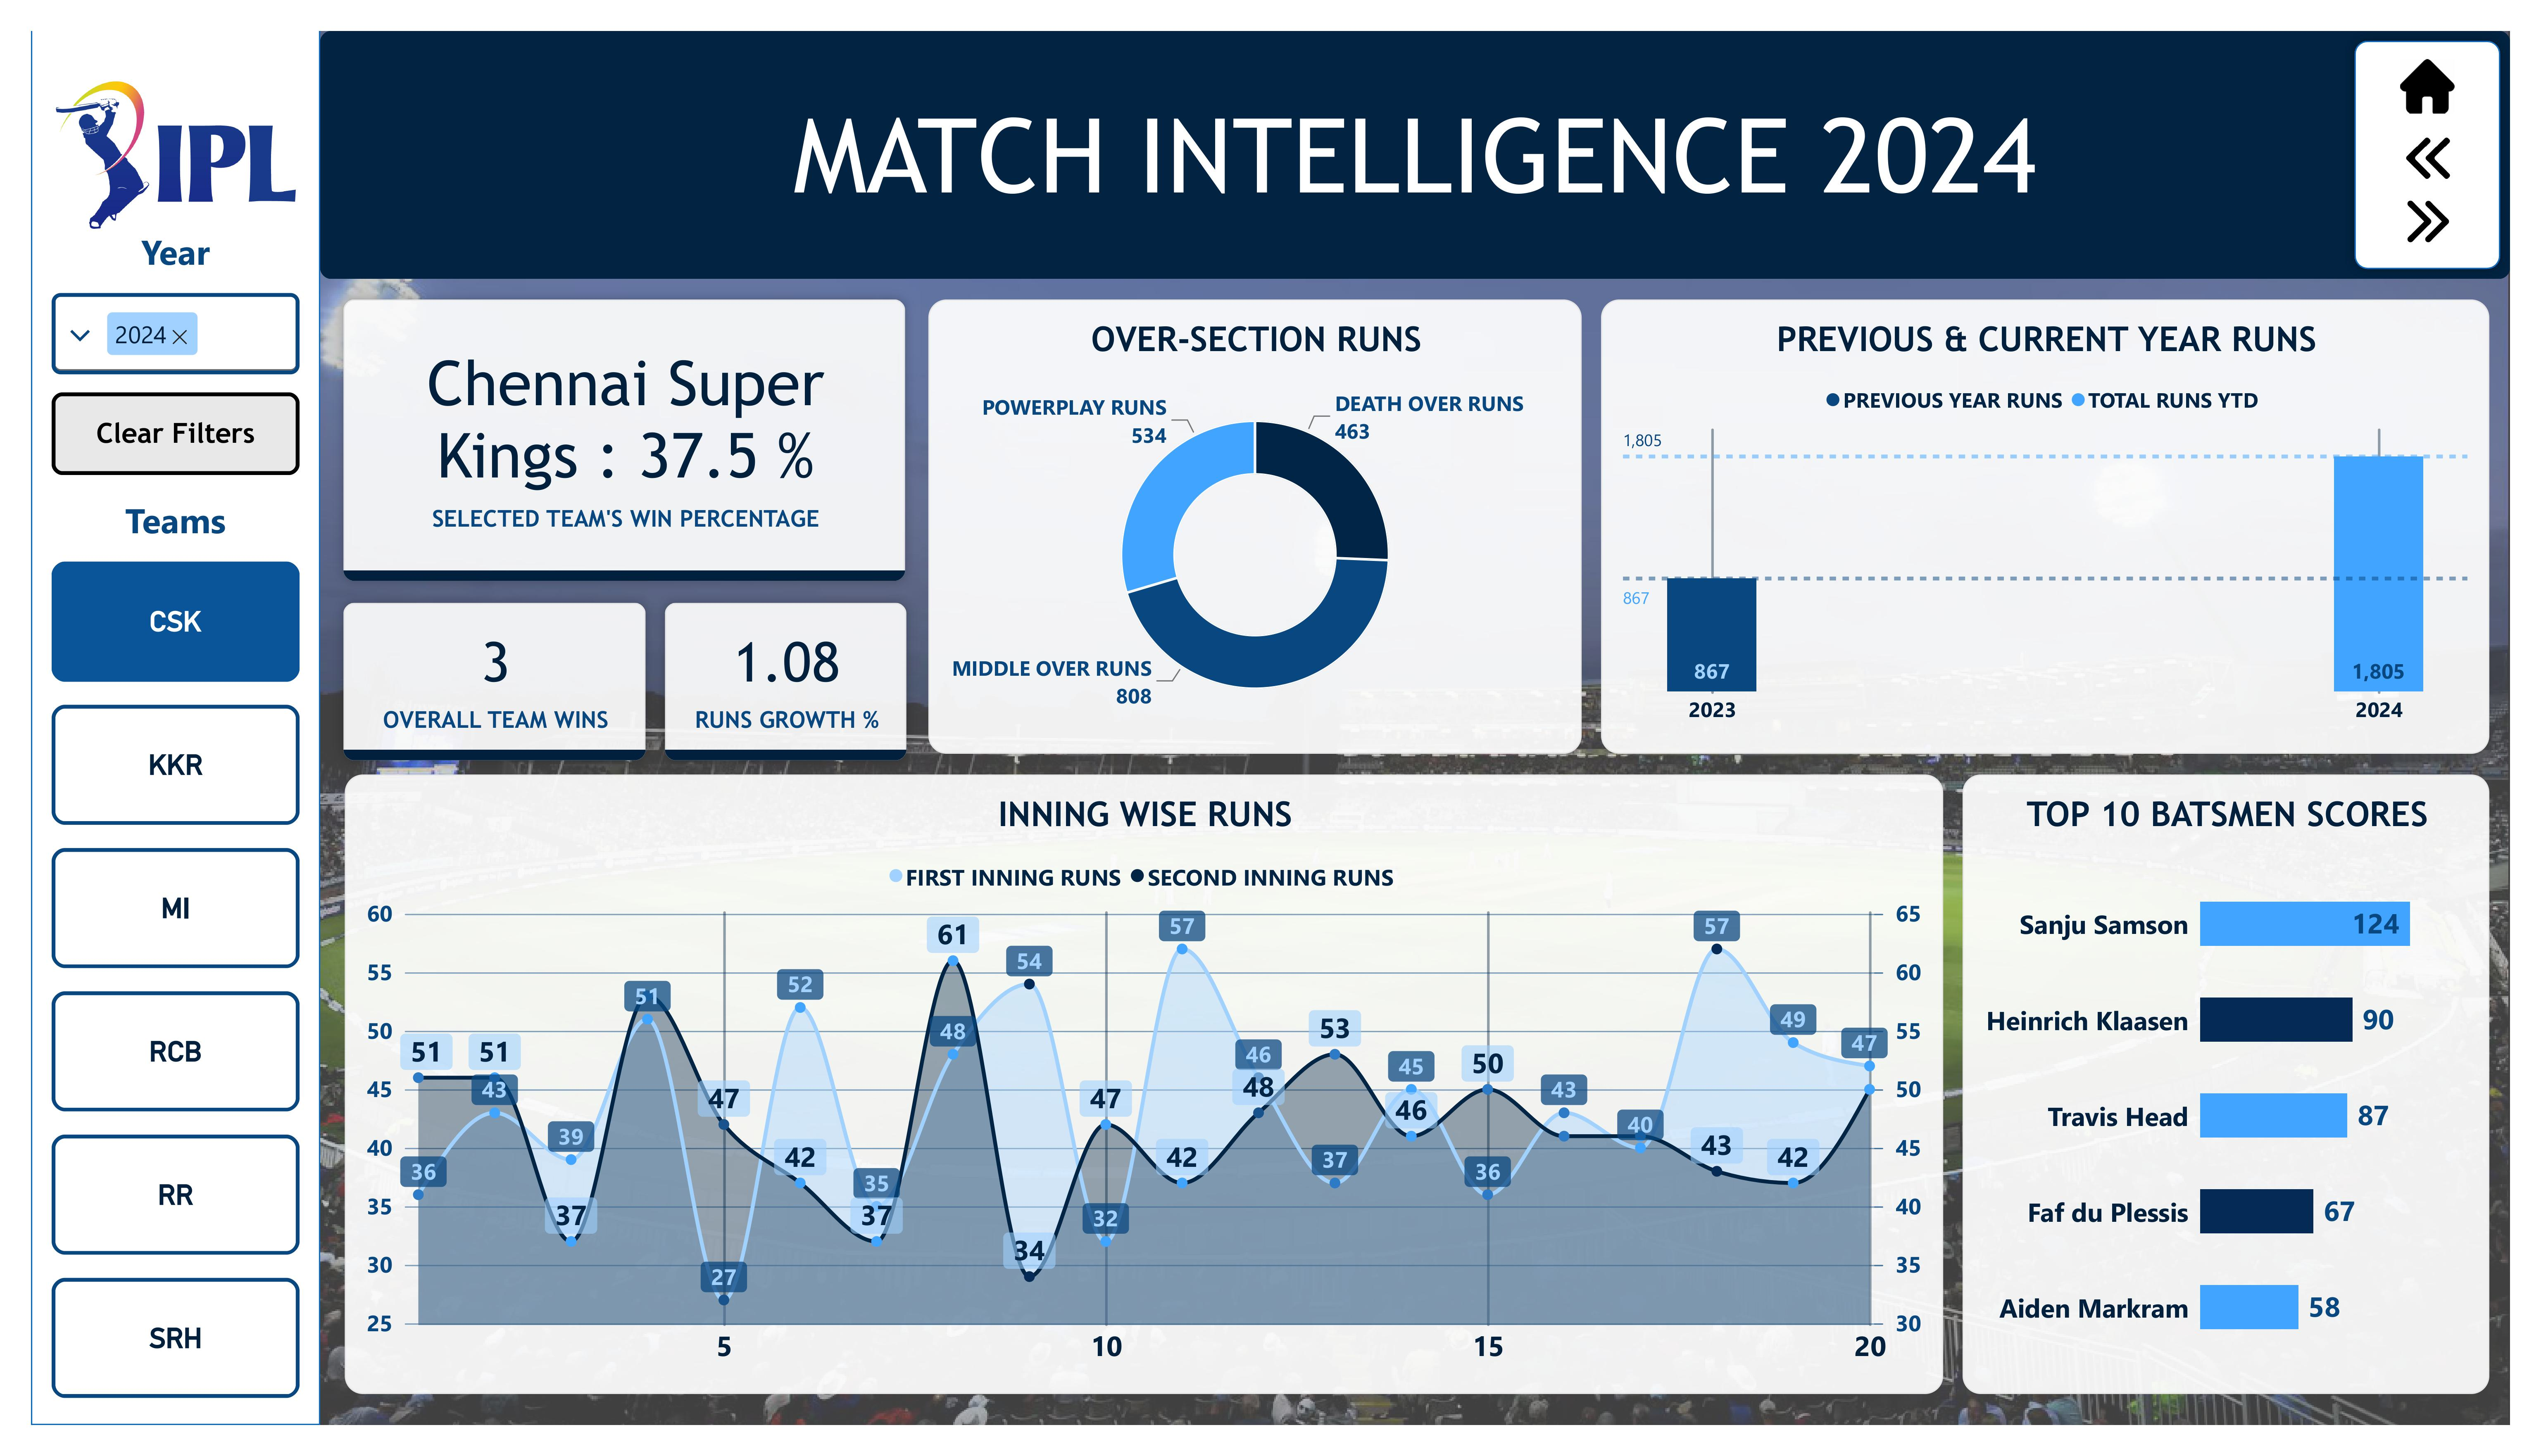

The page's visual inventory and layout, read from the dashboard file:
{"tool":"powerbi","page":{"name":"Advance Match Intelligence","canvas":[1920,1080],"ordinal":4},"visuals":[{"type":"group","id":"g1","title":"Group 4","box":[0,-8,224,1088],"z":0,"group":"g6"},{"type":"shape","box":[0,-8,224,1088],"z":0,"group":"g2"},{"type":"group","id":"g2","title":"Group 2","box":[0,-8,224,1088],"z":0,"group":"g1"},{"type":"cardVisual","fields":{"Data":["LEVEL 1.MATCH INTELLIGENCE TITLE"]},"box":[224,0,1696,192],"z":0,"group":"g3"},{"type":"shape","box":[1792,0,128,192.3],"z":0,"group":"g4"},{"type":"image","box":[1822.1,22.2,67.9,41.9],"z":0,"group":"g5"},{"type":"pieChart","title":"OVER-SECTION RUNS","fields":{"Y":["LEVEL 4.DEATH OVER RUNS","LEVEL 4.MIDDLE OVER RUNS","LEVEL 4.POWERPLAY RUNS"]},"box":[1296,216,600,360],"z":0},{"type":"cardVisual","fields":{"Data":["LEVEL 6 Time Intelligence.RUNS GROWTH %"]},"box":[856,394,432,192],"z":0,"group":"g7"},{"type":"group","id":"g3","title":"Group 6","box":[224,0,1696,192.3],"z":1000,"group":"g6"},{"type":"group","id":"g4","title":"Group 3","box":[1792,0,128,192.3],"z":1000,"group":"g3"},{"type":"group","id":"g5","title":"Group 1","box":[1802.7,22.2,106.7,153.5],"z":1000,"group":"g4"},{"type":"image","box":[1802.7,119.9,106.7,55.8],"z":1000,"group":"g5"},{"type":"cardVisual","fields":{"Data":["LEVEL 4.TEAM WINS"]},"box":[856,202,432,192],"z":1000,"group":"g7"},{"type":"advancedSlicerVisual","title":"Teams","fields":{"Values":["Teams.Team_ID"]},"box":[16,360,192,704],"z":1000,"group":"g1"},{"type":"areaChart","title":"INNING WISE RUNS","fields":{"Category":["Deliveries.Over"],"Y":["LEVEL 4.FIRST INNING RUNS","LEVEL 4.SECOND INNING RUNS"]},"box":[704,592,1200,464],"z":1000},{"type":"image","box":[16,0,192,192],"z":2000,"group":"g1"},{"type":"image","box":[1812.4,77.8,87.3,41.9],"z":2000,"group":"g5"},{"type":"cardVisual","fields":{"Data":["LEVEL 4.SELECT TEAM WIN %"]},"box":[231,204,624,382],"z":2000},{"type":"actionButton","box":[16,280,192,64],"z":3000,"group":"g1"},{"type":"ribbonChart","title":"PREVIOUS & CURRENT YEAR RUNS ","fields":{"Category":["Matches.Season"],"Y":["LEVEL 6 Time Intelligence.PREVIOUS YEAR RUNS","LEVEL 6 Time Intelligence.TOTAL RUNS YTD"]},"box":[240,592,448,464],"z":3000},{"type":"group","id":"g6","title":"Group 5","box":[0,-8,1920,1088],"z":4000},{"type":"group","id":"g7","title":"Group 7","box":[856,202,432,384],"z":5000},{"type":"listSlicer","fields":{"Values":["Date.Year"]},"box":[0,152.3,224,128],"z":7000}]}

Visuals, with their boxes on the page's 1920x1080 design canvas (x1, y1, x2, y2). These are canvas units, not pixel positions in the 2541x1456 screenshot, which may show the page scaled, cropped or inside an application window:
"Group 4" group: 0, -8, 224, 1080
shape: 0, -8, 224, 1080
"Group 2" group: 0, -8, 224, 1080
cardVisual - LEVEL 1.MATCH INTELLIGENCE TITLE: 224, 0, 1920, 192
shape: 1792, 0, 1920, 192
image: 1822, 22, 1890, 64
"OVER-SECTION RUNS" pieChart: 1296, 216, 1896, 576
cardVisual - LEVEL 6 Time Intelligence.RUNS GROWTH %: 856, 394, 1288, 586
"Group 6" group: 224, 0, 1920, 192
"Group 3" group: 1792, 0, 1920, 192
"Group 1" group: 1803, 22, 1909, 176
image: 1803, 120, 1909, 176
cardVisual - LEVEL 4.TEAM WINS: 856, 202, 1288, 394
"Teams" advancedSlicerVisual: 16, 360, 208, 1064
"INNING WISE RUNS" areaChart: 704, 592, 1904, 1056
image: 16, 0, 208, 192
image: 1812, 78, 1900, 120
cardVisual - LEVEL 4.SELECT TEAM WIN %: 231, 204, 855, 586
actionButton: 16, 280, 208, 344
"PREVIOUS & CURRENT YEAR RUNS " ribbonChart: 240, 592, 688, 1056
"Group 5" group: 0, -8, 1920, 1080
"Group 7" group: 856, 202, 1288, 586
listSlicer - Date.Year: 0, 152, 224, 280
